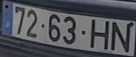2: (25, 8, 38, 39)
3: (62, 15, 77, 45)
6: (47, 12, 61, 42)
7: (14, 4, 26, 35)
H: (89, 18, 110, 50)
N: (110, 20, 131, 53)
